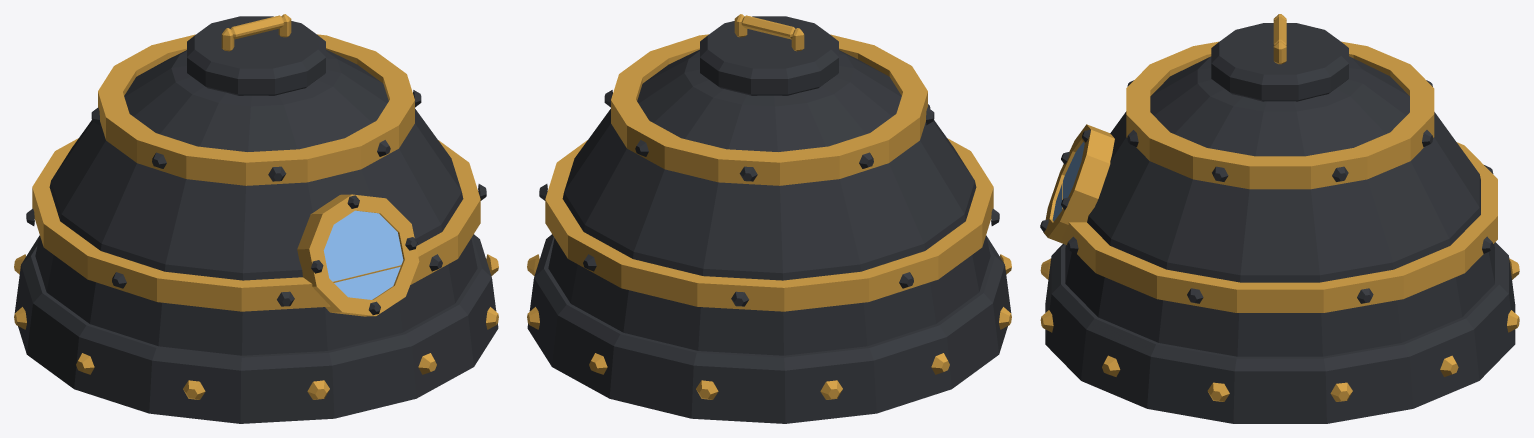
File: BubbleB1.obj
3 renders of one model, left to right at view 1: azimuth 30°, elevation 25°; view 2: azimuth 150°, elevation 25°; view 3: azimuth 270°, elevation 25°, orthographic.
Visible parts, largest first — view 1: BubbleB1; view 2: BubbleB1; view 3: BubbleB1.
Part boxes in pixels (<box>): BubbleB1: <box>14,14,498,423</box>; BubbleB1: <box>527,14,1011,423</box>; BubbleB1: <box>1040,14,1519,423</box>.
Bounding box in the file's own units: 0.8877 × 0.606 × 0.8885.
